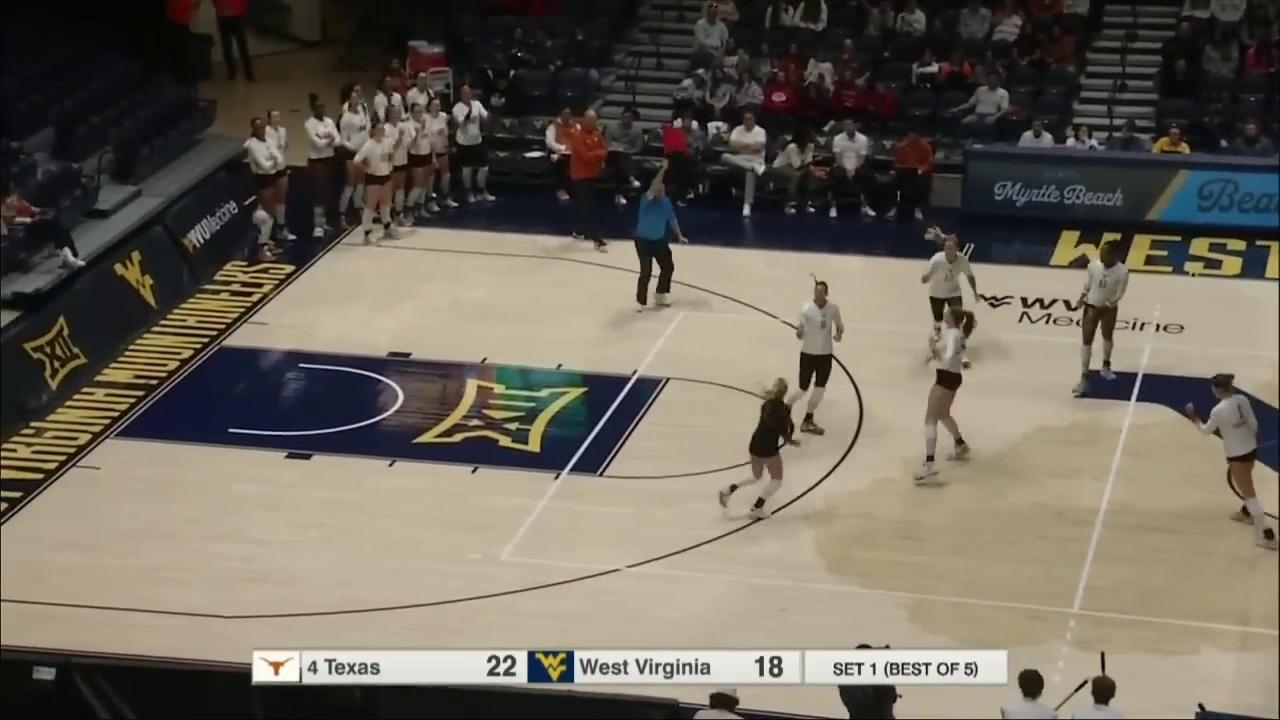player: (1188, 377, 1280, 548), (775, 277, 845, 444), (717, 373, 793, 523), (915, 305, 973, 486), (1074, 239, 1131, 397), (916, 239, 982, 371)
refree: (631, 177, 685, 313)
